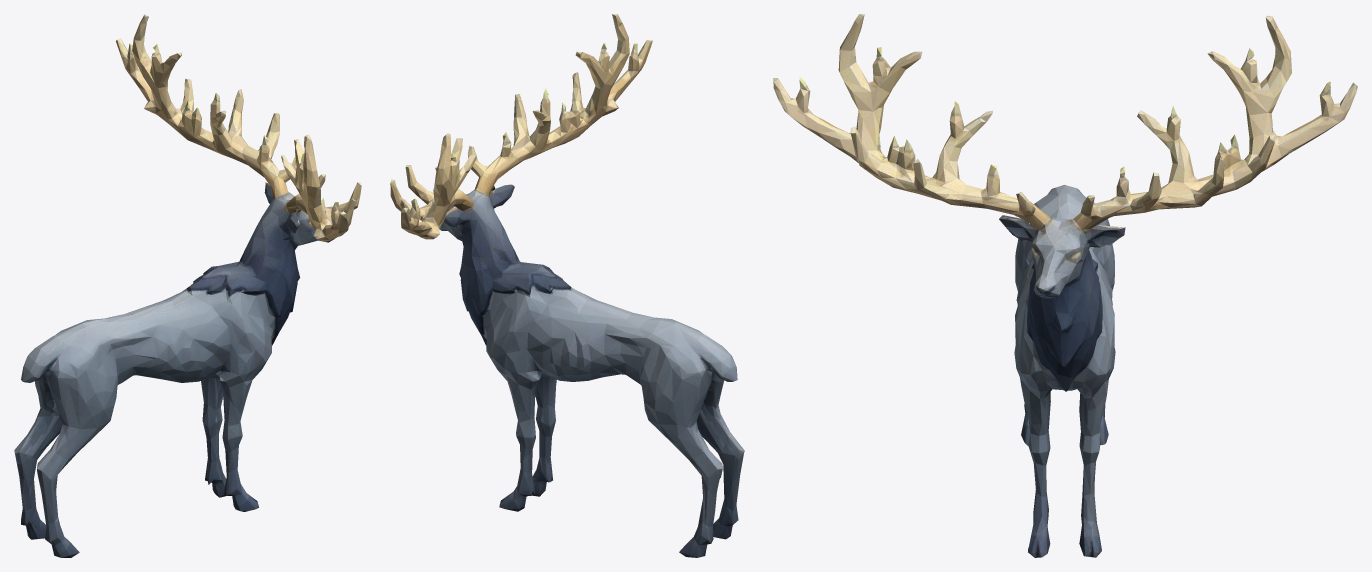
The model's file is foe_hart.glb.
3 views of the same model, side by side, from view 1: azimuth 30°, elevation 25°; view 2: azimuth 150°, elevation 25°; view 3: azimuth 270°, elevation 25° (orthographic). The views are drawn at different scales.
Visible parts, largest first — view 1: tripo_node_17d32aed-4130-46fd-99be-00700a012219.001; view 2: tripo_node_17d32aed-4130-46fd-99be-00700a012219.001; view 3: tripo_node_17d32aed-4130-46fd-99be-00700a012219.001.
Part boxes in pixels (x1,y1,x2,y2): tripo_node_17d32aed-4130-46fd-99be-00700a012219.001: (14,14,361,557); tripo_node_17d32aed-4130-46fd-99be-00700a012219.001: (390,14,744,557); tripo_node_17d32aed-4130-46fd-99be-00700a012219.001: (773,14,1357,557).
Size of the model in its own units: 0.755 by 0.9949 by 0.9926.
1 material, 1 textured.
